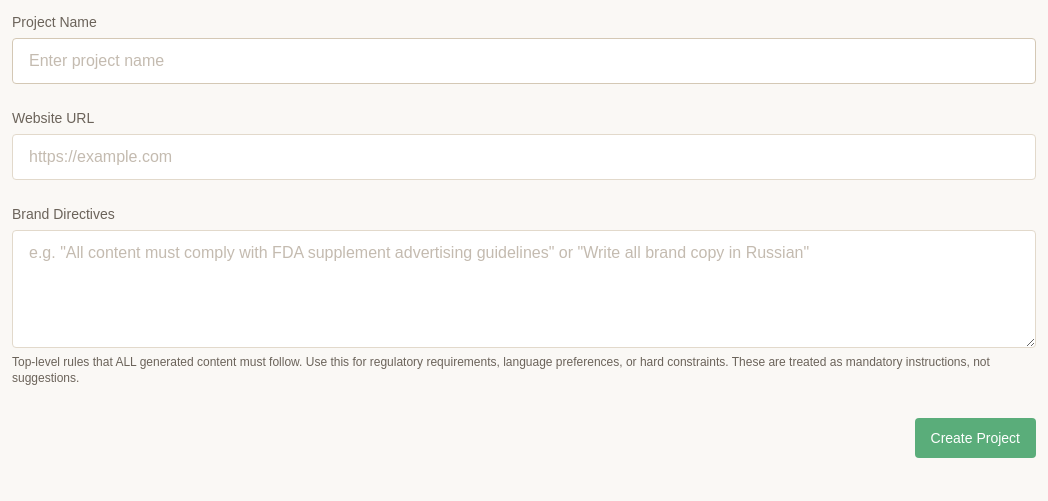
Scenario: ProjectForm › validation - required fields › shows error when site_url is empty
// Fill in name but leave URL empty
Type "Test Project" into the field labelled "Project Name". click: (524,61)
box: [12,38,1036,84]
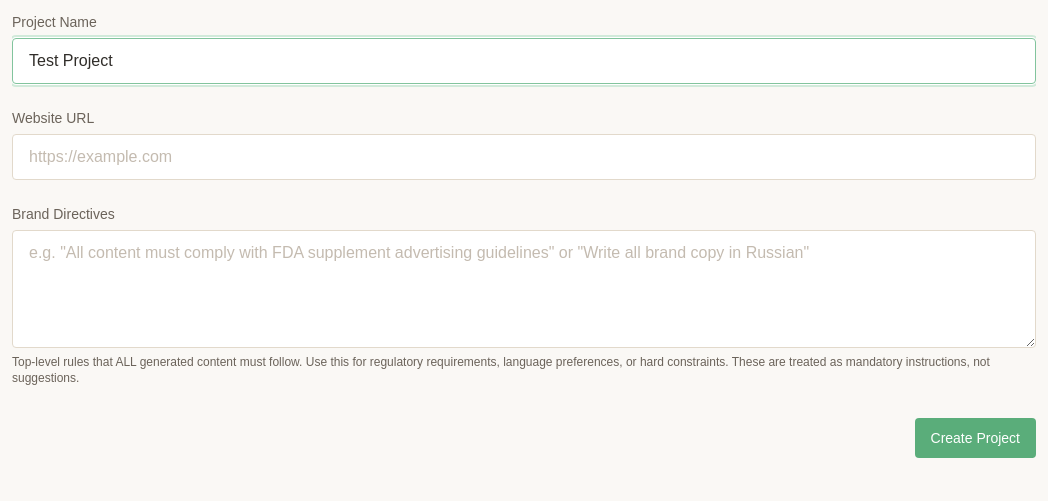
Click the button "Create Project". click: (975,438)
box: [914,418,1036,458]
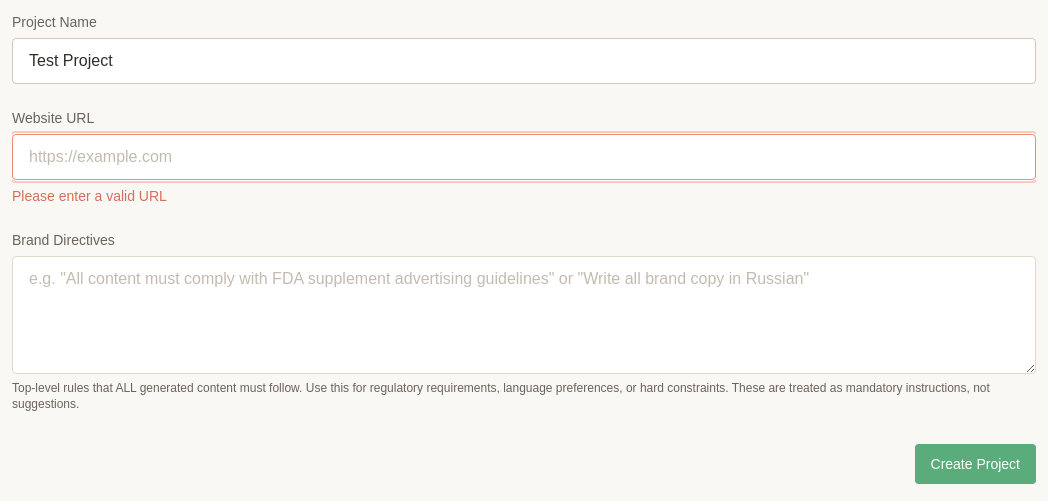
Expected: the text "Please enter a valid URL" is shown, [12,188,167,204]
